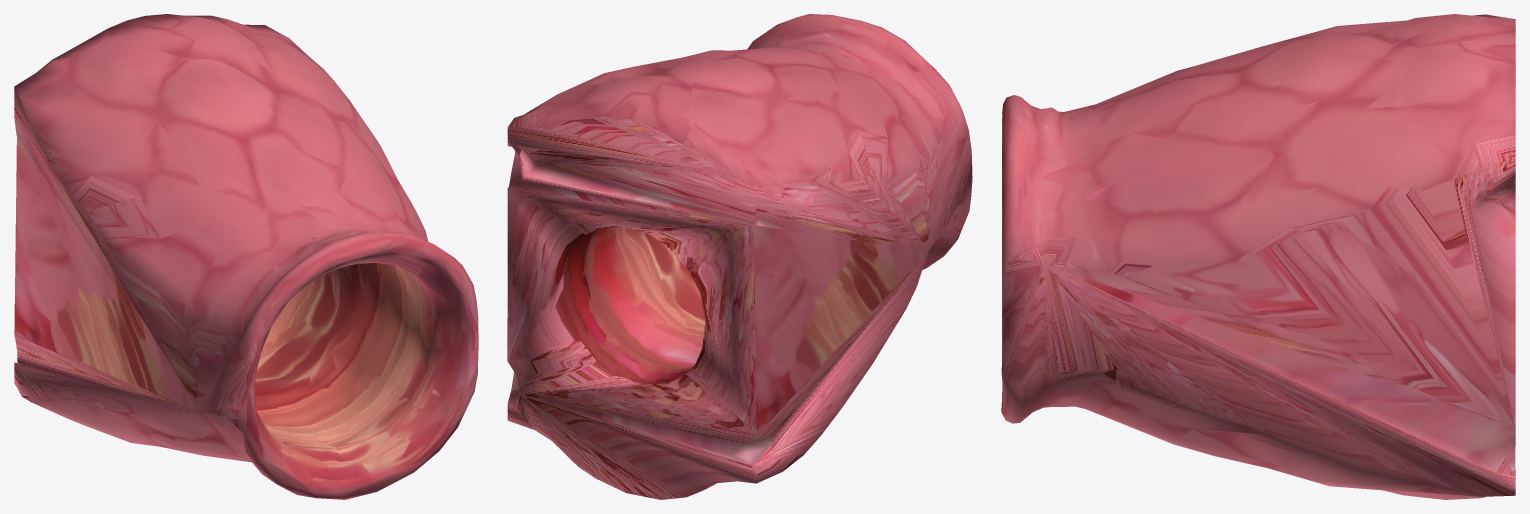
The model's file is Throat1.1.fbx.
3 views of the same model, side by side, from view 1: azimuth 30°, elevation 25°; view 2: azimuth 150°, elevation 25°; view 3: azimuth 270°, elevation 25° (orthographic). The views are drawn at different scales.
Parts seen in each view (by area): view 1: Mesh_0; view 2: Mesh_0; view 3: Mesh_0.
Part boxes in pixels (bbox=[...]): Mesh_0: bbox=[14, 14, 478, 499]; Mesh_0: bbox=[507, 14, 972, 499]; Mesh_0: bbox=[1001, 14, 1515, 499].
Size of the model in its own units: 0.8401 by 1.06 by 1.11.
